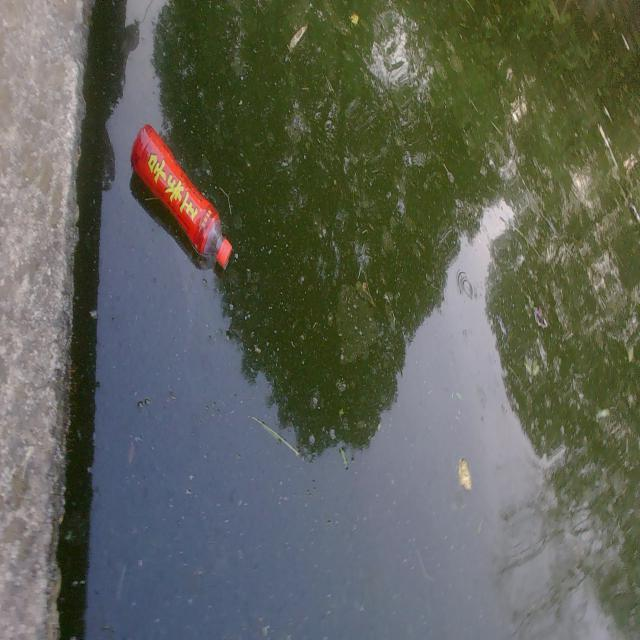bottle: (109, 111, 250, 278)
